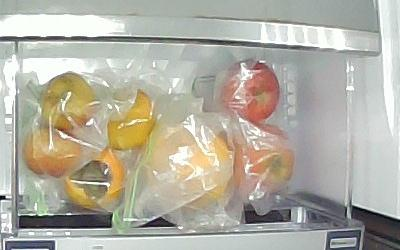apple_vinyl: (216, 123, 294, 196), (220, 59, 282, 122)
grapefruit_vinyl: (147, 126, 230, 209)
persimmon_vinyl: (63, 147, 126, 208), (106, 88, 153, 149)
prune_vinyl: (39, 72, 101, 132), (23, 126, 82, 180)
